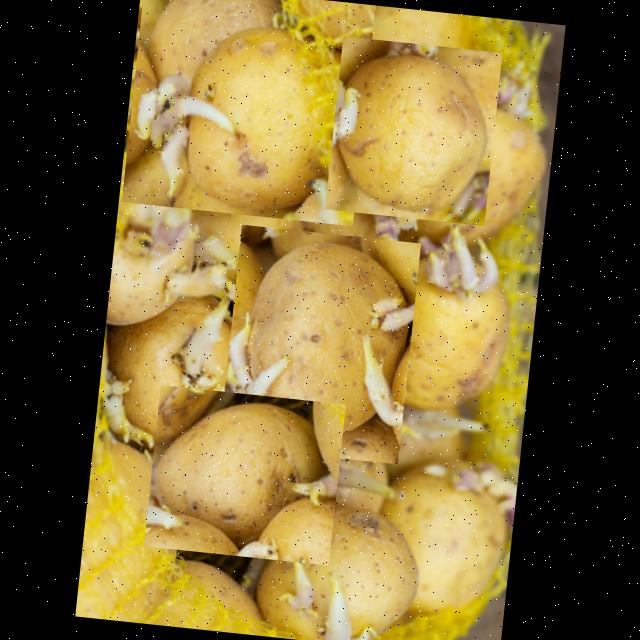Sprouted potato: (121, 0, 375, 225), (218, 223, 420, 463), (90, 246, 282, 484), (144, 383, 346, 564), (325, 34, 502, 224)
